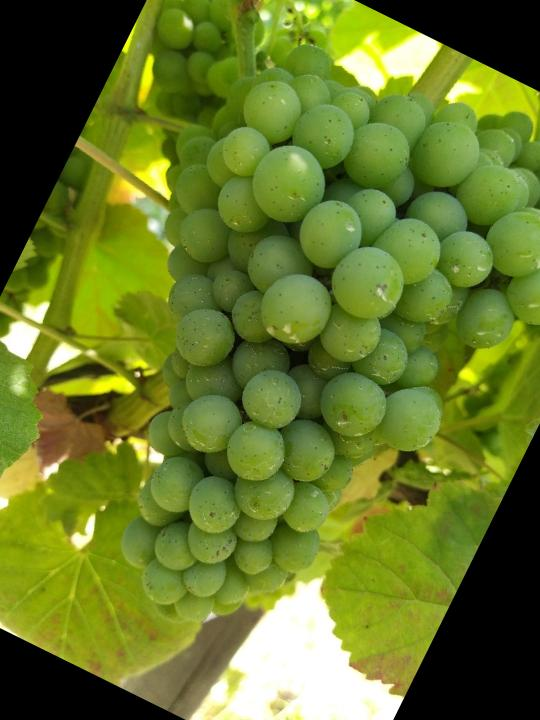grape: (0, 2, 540, 713)
